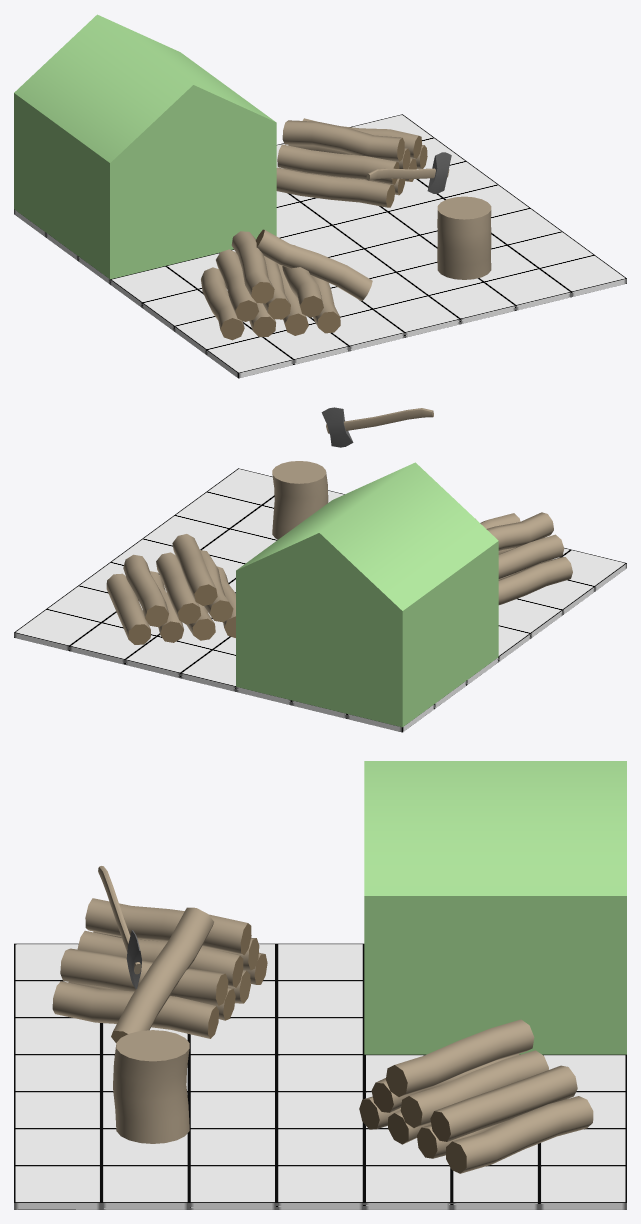
The model's file is XG_Lumberjack.glb.
3 renders of one model, top to bottom at view 1: azimuth 30°, elevation 25°; view 2: azimuth 150°, elevation 25°; view 3: azimuth 270°, elevation 25°, orthographic. The views are drawn at different scales.
Parts seen in each view (by area): view 1: building_3m_3m_034, ground_7_x_7_013, Cylinder009, log_086, log_082, log_089, log_085, log_078, log_074, log_077, log_075, log_076 (+6 smaller); view 2: building_3m_3m_034, ground_7_x_7_013, Cylinder009, log_074, log_083, log_086, log_079, log_084, log_077, log_078, Box804, log_085 (+4 smaller); view 3: ground_7_x_7_013, building_3m_3m_034, Cylinder009, log_079, log_083, log_086, log_089, log_071, log_078, log_075, log_084, log_076 (+5 smaller).
Part boxes in pixels (x1=…): building_3m_3m_034: x1=14, y1=14, x2=276, y2=279; ground_7_x_7_013: x1=14, y1=114, x2=626, y2=378; Cylinder009: x1=437, y1=196, x2=491, y2=279; log_086: x1=282, y1=120, x2=404, y2=161; log_082: x1=276, y1=167, x2=395, y2=207; log_089: x1=255, y1=229, x2=372, y2=300; log_085: x1=277, y1=144, x2=399, y2=184; log_078: x1=231, y1=231, x2=274, y2=303; log_074: x1=201, y1=267, x2=244, y2=340; log_077: x1=216, y1=249, x2=258, y2=321; log_075: x1=282, y1=245, x2=323, y2=317; log_076: x1=263, y1=256, x2=290, y2=319; building_3m_3m_034: x1=236, y1=462, x2=498, y2=727; ground_7_x_7_013: x1=14, y1=468, x2=626, y2=732; Cylinder009: x1=272, y1=461, x2=328, y2=539; log_074: x1=498, y1=557, x2=572, y2=604; log_083: x1=123, y1=554, x2=168, y2=627; log_086: x1=172, y1=534, x2=217, y2=605; log_079: x1=106, y1=573, x2=150, y2=644; log_084: x1=156, y1=552, x2=200, y2=624; log_077: x1=498, y1=534, x2=564, y2=578; log_078: x1=486, y1=512, x2=553, y2=550; Box804: x1=326, y1=408, x2=433, y2=433; log_085: x1=200, y1=550, x2=233, y2=622; ground_7_x_7_013: x1=14, y1=943, x2=626, y2=1209; building_3m_3m_034: x1=364, y1=761, x2=626, y2=1054; Cylinder009: x1=113, y1=1030, x2=189, y2=1143; log_079: x1=446, y1=1096, x2=593, y2=1173; log_083: x1=430, y1=1065, x2=577, y2=1141; log_086: x1=385, y1=1019, x2=534, y2=1096; log_089: x1=111, y1=907, x2=213, y2=1042; log_071: x1=52, y1=981, x2=218, y2=1038; log_078: x1=85, y1=898, x2=251, y2=955; log_075: x1=60, y1=948, x2=228, y2=1005; log_084: x1=400, y1=1050, x2=548, y2=1128; log_076: x1=77, y1=930, x2=243, y2=988.
Size of the model in its own units: 7 by 3.09 by 7.
Materials: 5 (1 with a texture image).
